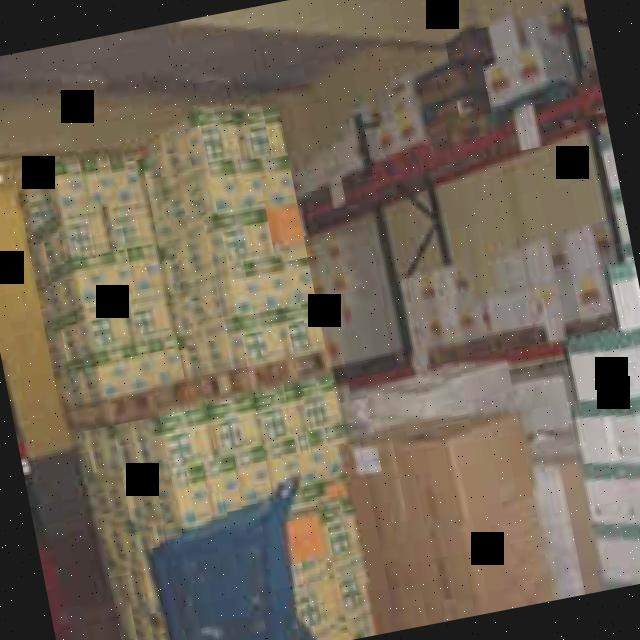box: (354, 422, 548, 616), (44, 145, 190, 388)
